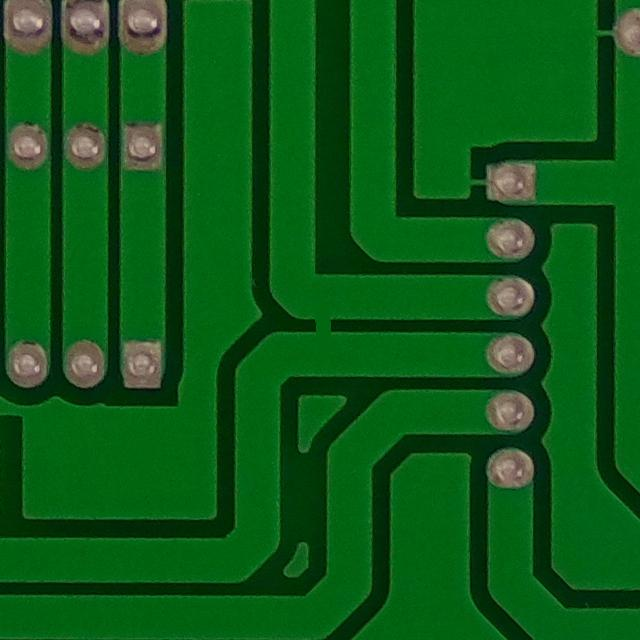short: (275, 270, 366, 370)
